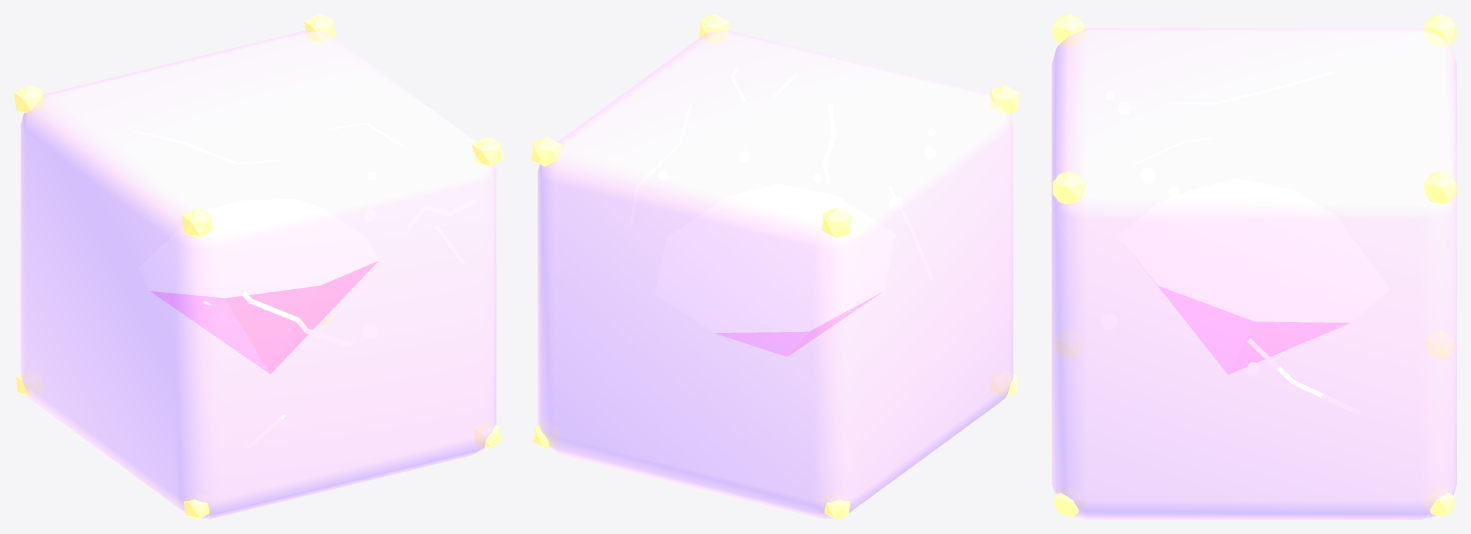
The model's file is gem_block.glb.
3 views of the same model, side by side, from view 1: azimuth 30°, elevation 25°; view 2: azimuth 150°, elevation 25°; view 3: azimuth 270°, elevation 25° (orthographic). The views are drawn at different scales.
Parts seen in each view (by area): view 1: gem_block; view 2: gem_block; view 3: gem_block.
Boxes of the visible parts, x1,y1,x2,y2 form: gem_block: (14, 14, 502, 519); gem_block: (531, 14, 1019, 519); gem_block: (1048, 14, 1456, 519).
Size of the model in its own units: 0.9774 by 0.925 by 0.969.
